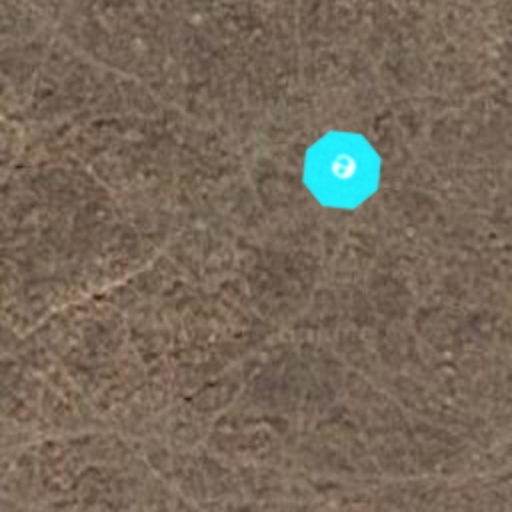octagon: (286, 114, 398, 226)
